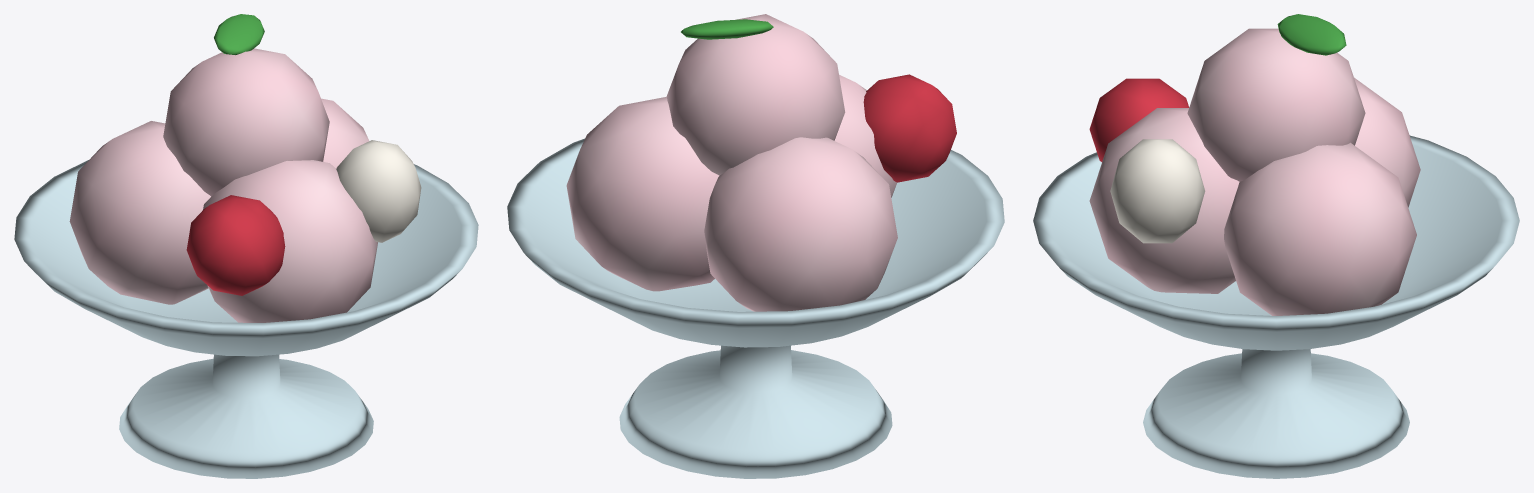
File: item_dish_lychee_ice.glb
The picture shows the model from 3 angles, left to right: view 1: azimuth 30°, elevation 25°; view 2: azimuth 150°, elevation 25°; view 3: azimuth 270°, elevation 25°; orthographic projection. The views are drawn at different scales.
Parts seen in each view (by area): view 1: item_dish_lychee_ice_main, item_dish_lychee_ice_gloss; view 2: item_dish_lychee_ice_main, item_dish_lychee_ice_gloss; view 3: item_dish_lychee_ice_gloss, item_dish_lychee_ice_main.
Boxes of the visible parts, x1,y1,x2,y2 form: item_dish_lychee_ice_main: [69, 14, 377, 322]; item_dish_lychee_ice_gloss: [14, 140, 478, 478]; item_dish_lychee_ice_main: [566, 14, 956, 311]; item_dish_lychee_ice_gloss: [507, 138, 1004, 478]; item_dish_lychee_ice_gloss: [1033, 135, 1519, 478]; item_dish_lychee_ice_main: [1089, 14, 1420, 315].
Size of the model in its own units: 0.164 by 0.1496 by 0.164.
